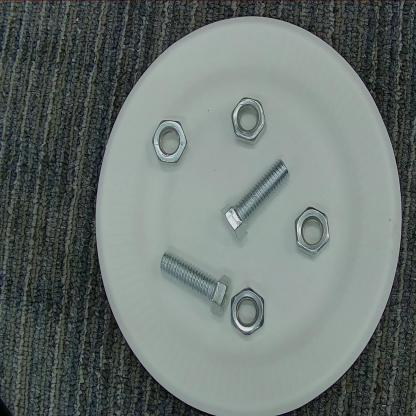FOD: (221, 157, 293, 247), (157, 252, 230, 318), (293, 202, 335, 262), (150, 115, 192, 168), (227, 285, 267, 338), (229, 93, 268, 146)
